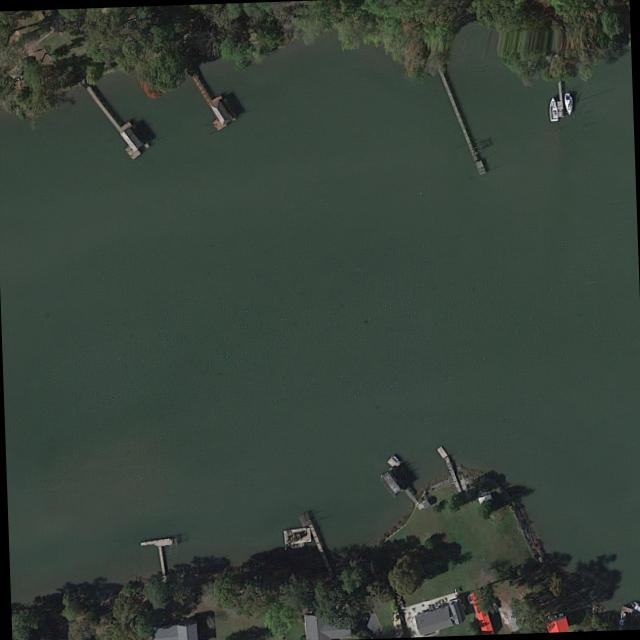ship: (546, 97, 557, 122), (562, 92, 572, 115), (627, 601, 640, 613)
small-vehicle: (616, 611, 626, 626)
